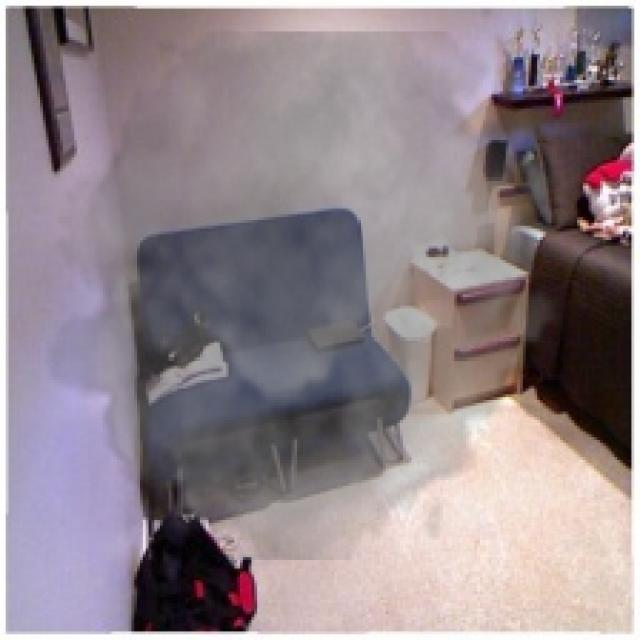smoke: (46, 31, 577, 560)
